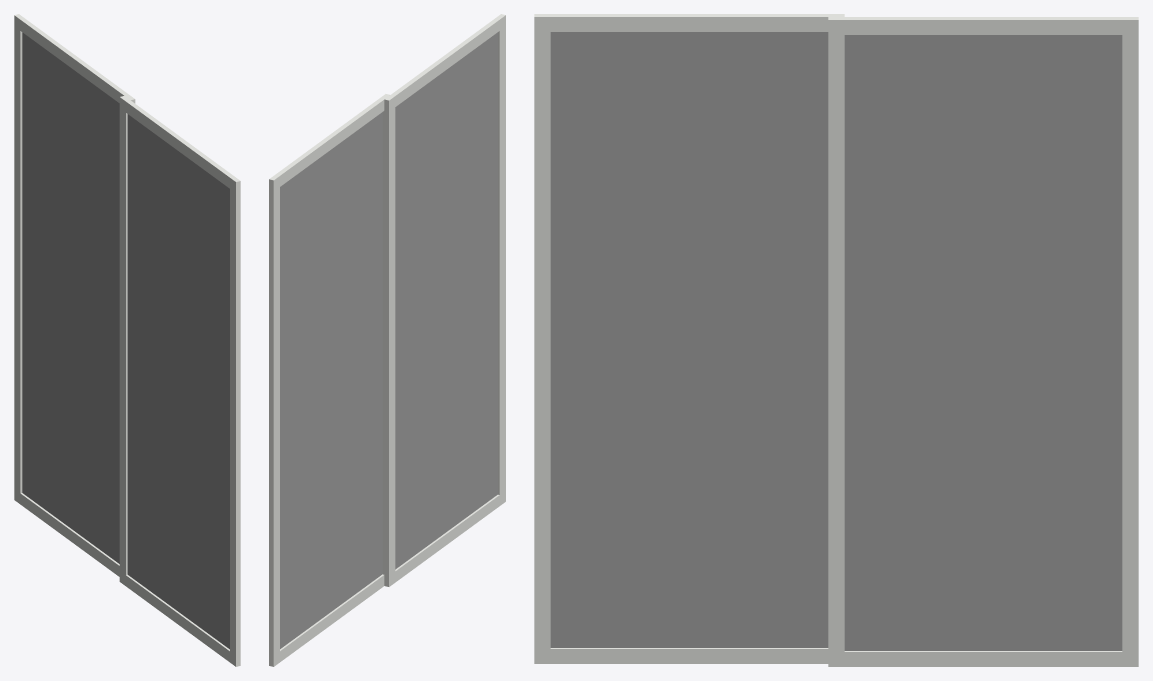
The model's file is SM_Window_2.fbx.
3 renders of one model, left to right at view 1: azimuth 30°, elevation 25°; view 2: azimuth 150°, elevation 25°; view 3: azimuth 270°, elevation 25°, orthographic. The views are drawn at different scales.
Parts seen in each view (by area): view 1: GDLM849_GDLM1001_mGDLM233_Lay.014, GDLM793_GDLM840_mGDLM223_Laye.001; view 2: GDLM849_GDLM1001_mGDLM233_Lay.014, GDLM793_GDLM840_mGDLM223_Laye.001; view 3: GDLM849_GDLM1001_mGDLM233_Lay.018, GDLM793_GDLM840_mGDLM223_Laye.001.
Part boxes in pixels (x1=…): GDLM849_GDLM1001_mGDLM233_Lay.014: x1=22, y1=32, x2=229, y2=649; GDLM793_GDLM840_mGDLM223_Laye.001: x1=14, y1=14, x2=240, y2=666; GDLM849_GDLM1001_mGDLM233_Lay.014: x1=280, y1=32, x2=497, y2=648; GDLM793_GDLM840_mGDLM223_Laye.001: x1=269, y1=14, x2=505, y2=666; GDLM849_GDLM1001_mGDLM233_Lay.018: x1=550, y1=32, x2=1122, y2=650; GDLM793_GDLM840_mGDLM223_Laye.001: x1=534, y1=14, x2=1138, y2=666.
Size of the model in its own units: 0.04 by 1.96 by 1.66.
Materials: 3 (1 with a texture image).
